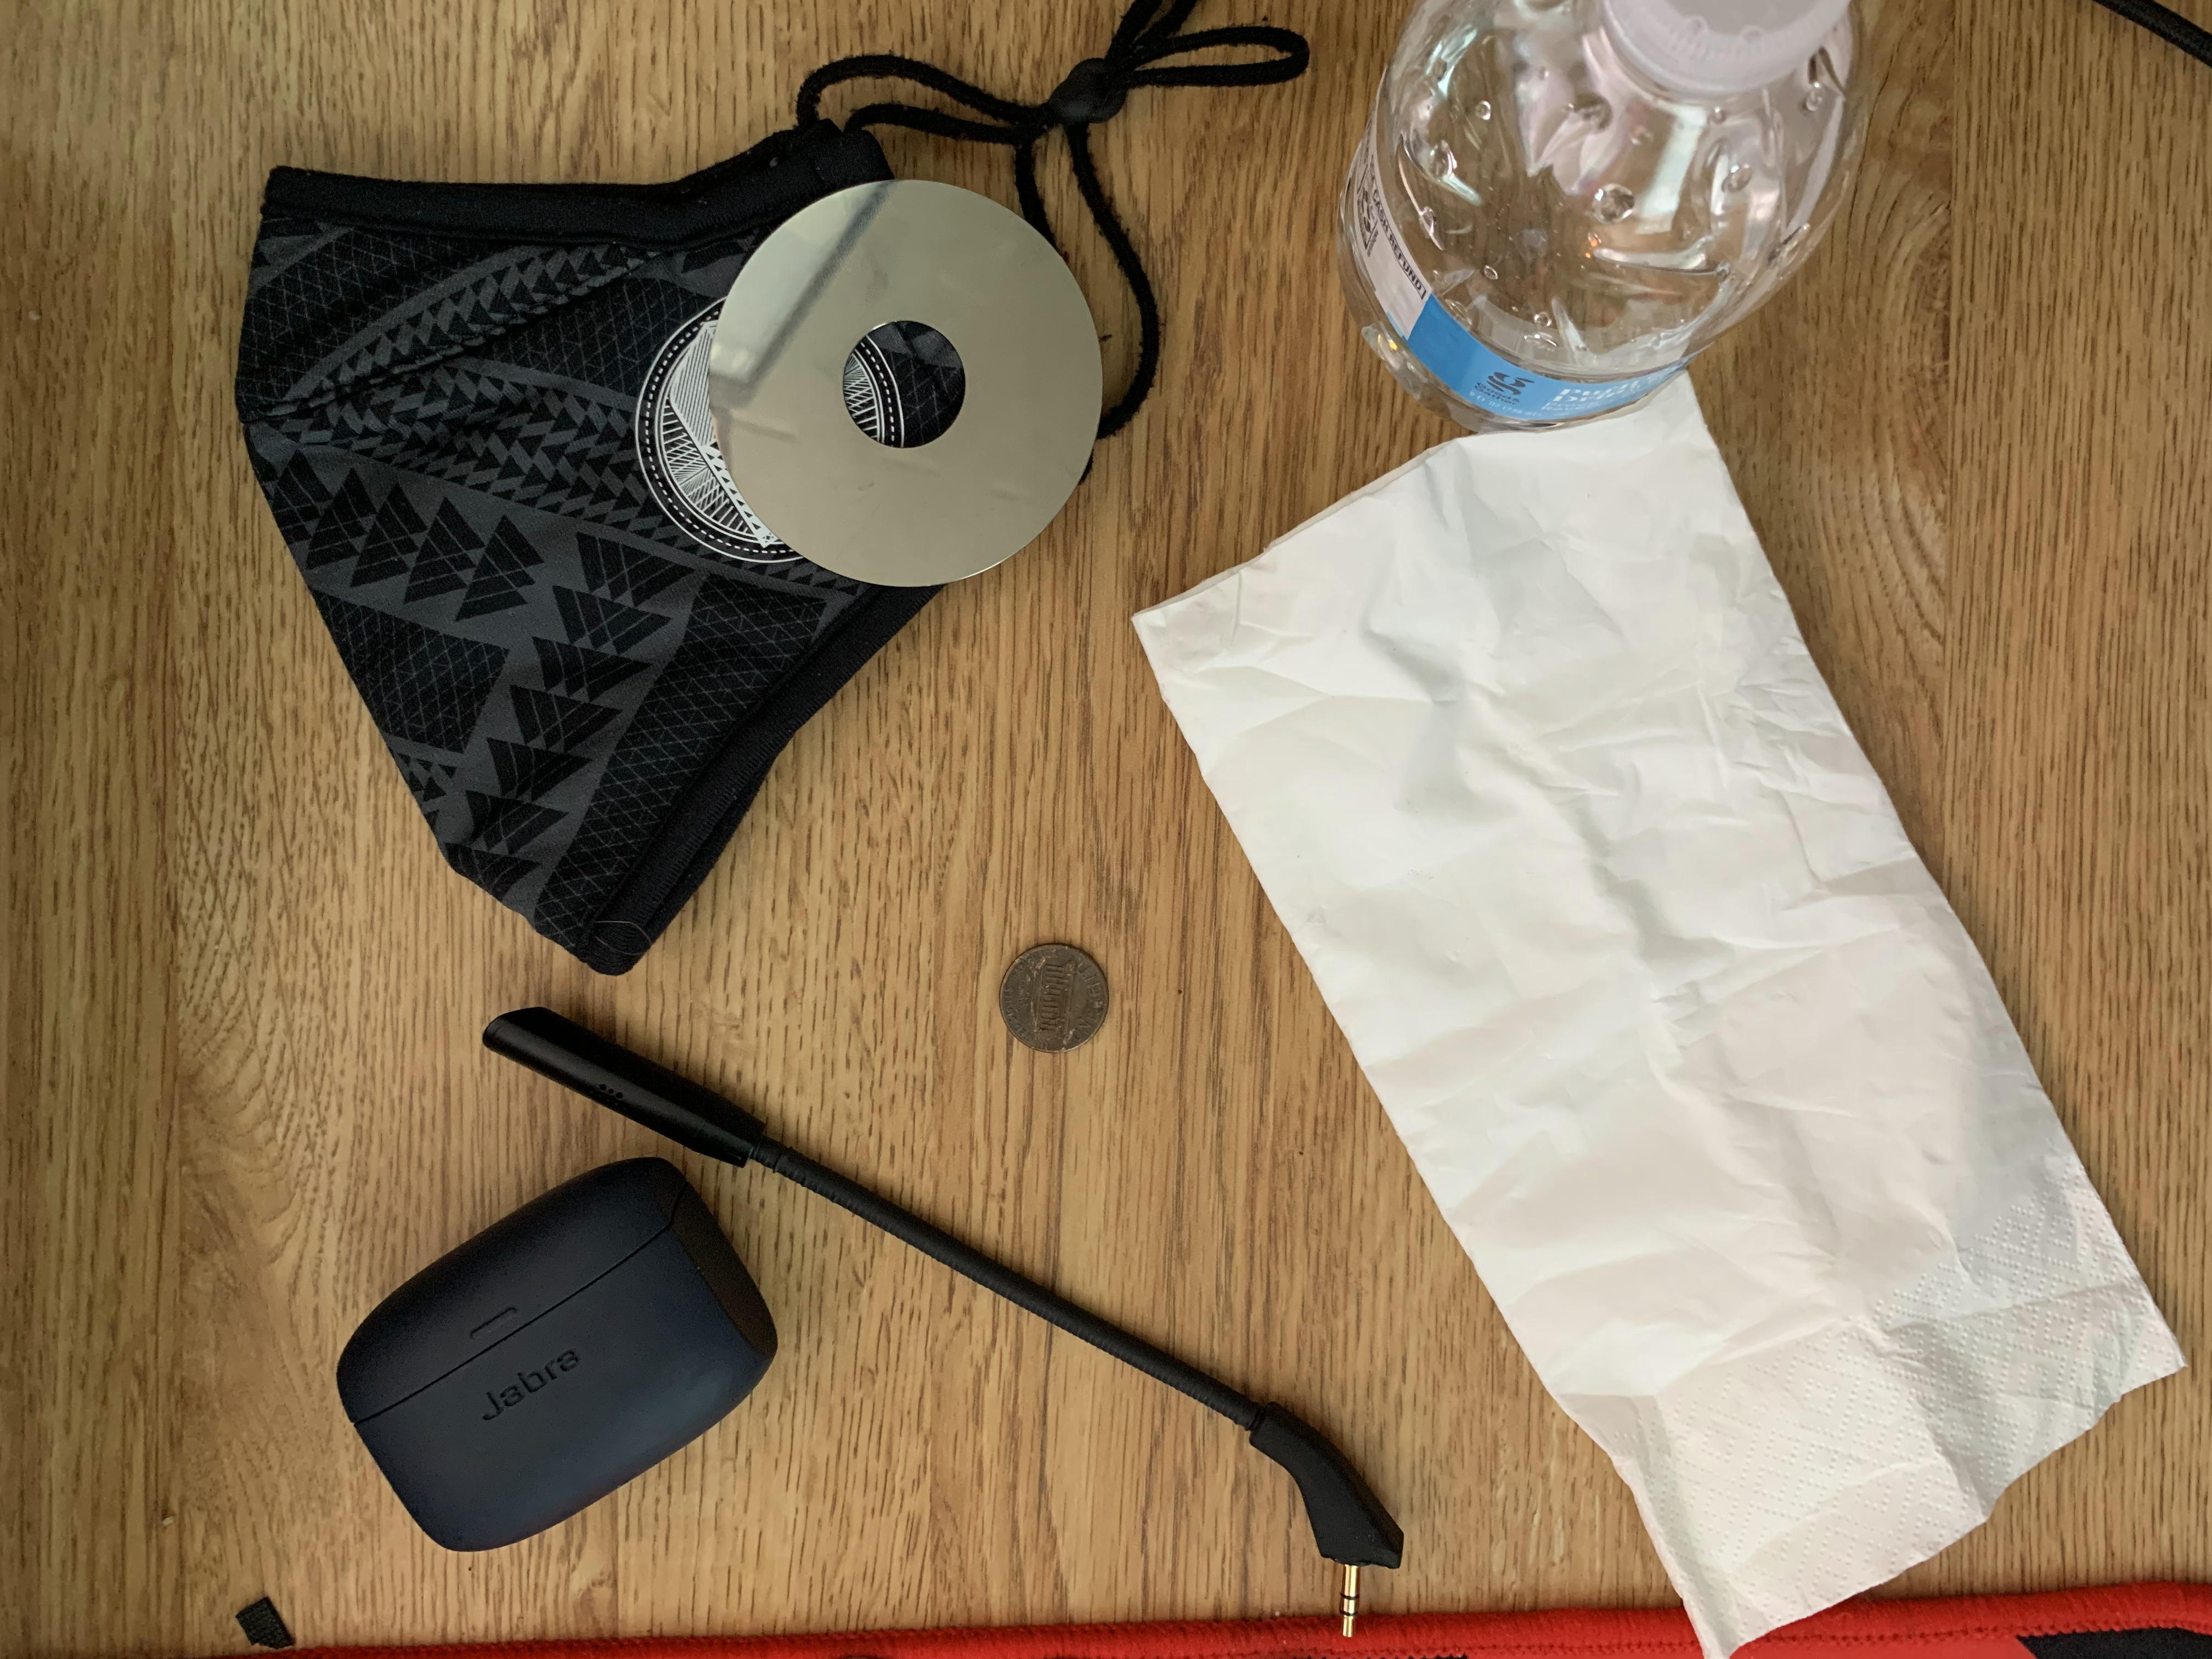Penny: (995, 939, 1111, 1053)
